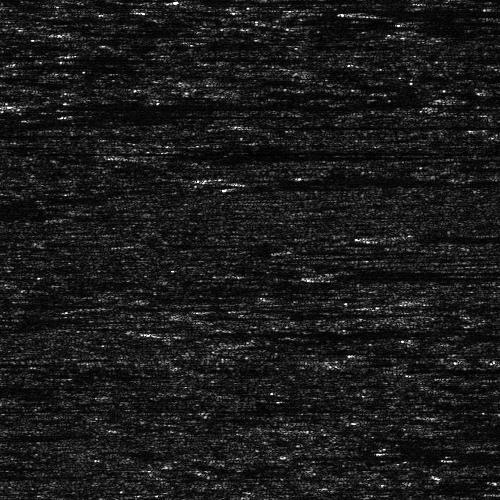object: (77, 326, 234, 341), (0, 94, 94, 115), (82, 147, 187, 160), (158, 176, 251, 183), (21, 27, 74, 38), (217, 117, 258, 130), (308, 268, 361, 277), (347, 8, 388, 15), (363, 233, 404, 238)
shadow: (32, 94, 389, 115), (156, 326, 442, 341), (134, 147, 425, 160), (238, 117, 389, 130), (48, 27, 195, 38), (204, 176, 425, 183), (334, 268, 500, 277), (368, 8, 500, 15), (0, 130, 120, 135), (384, 233, 500, 238), (0, 118, 82, 123)
